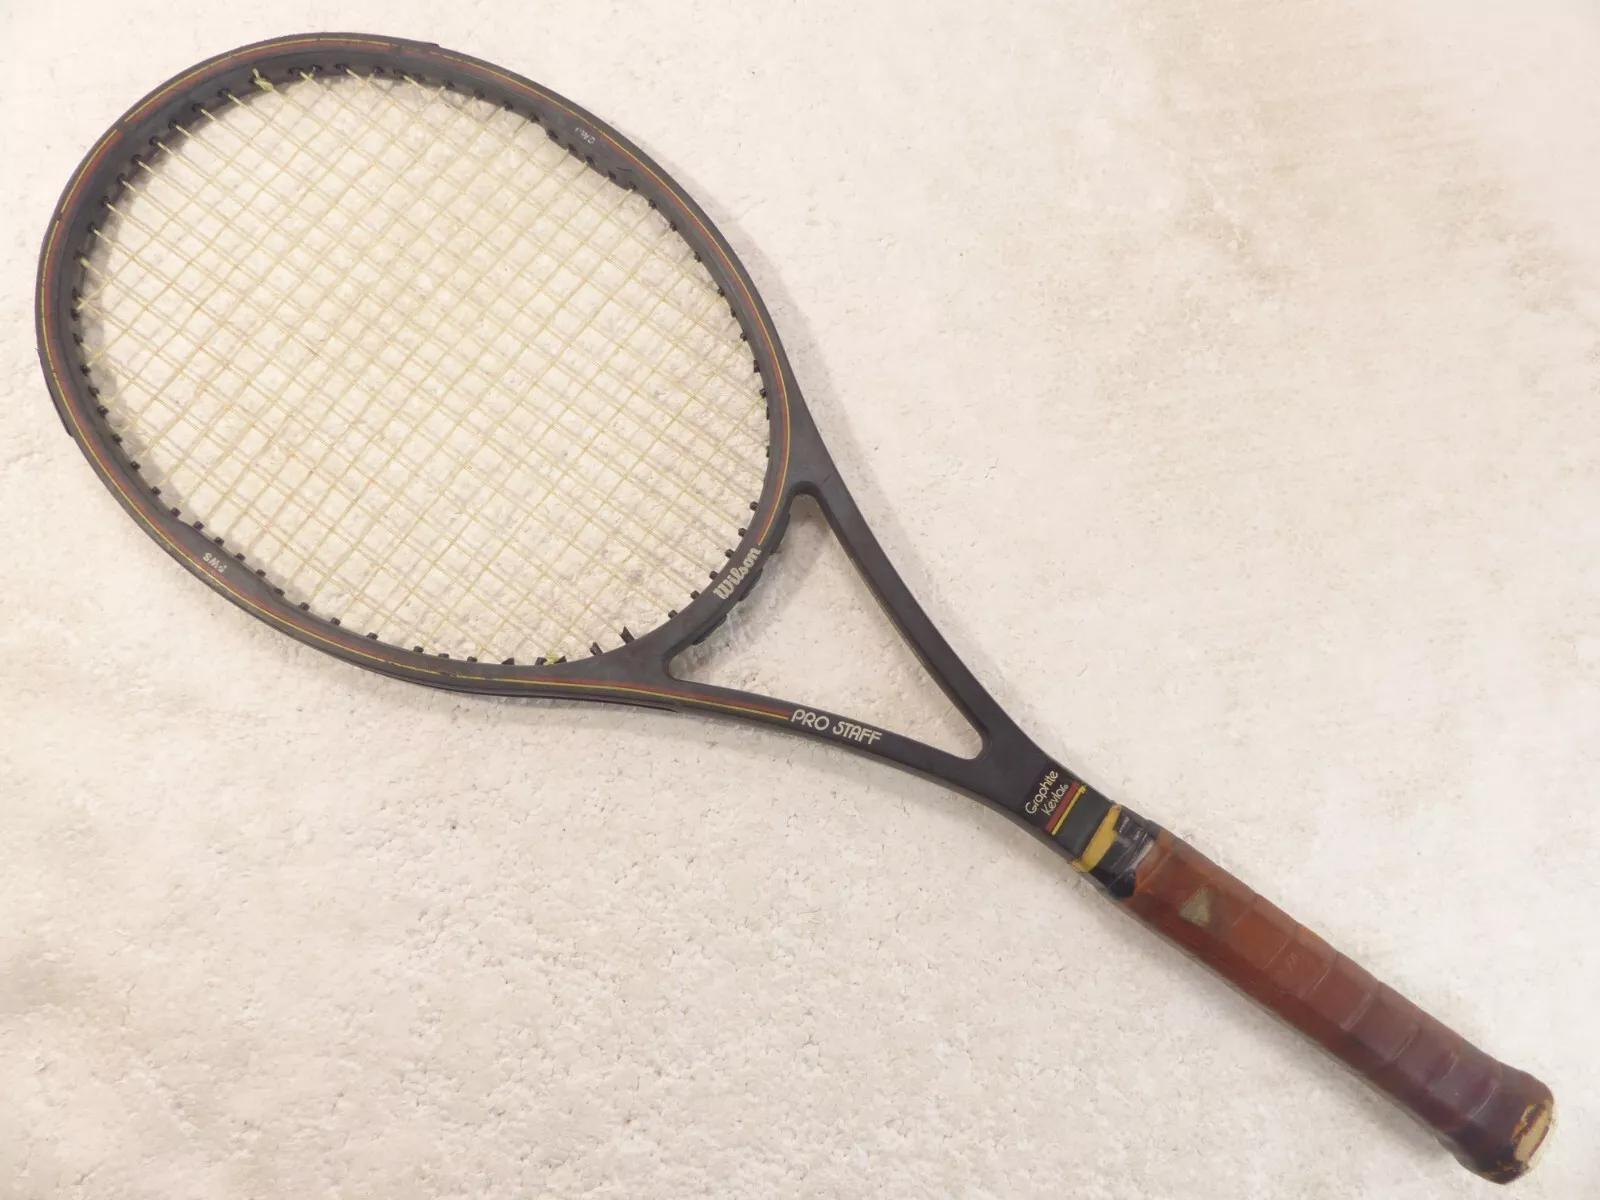Tennis-Racket: (38, 34, 1551, 1181)
